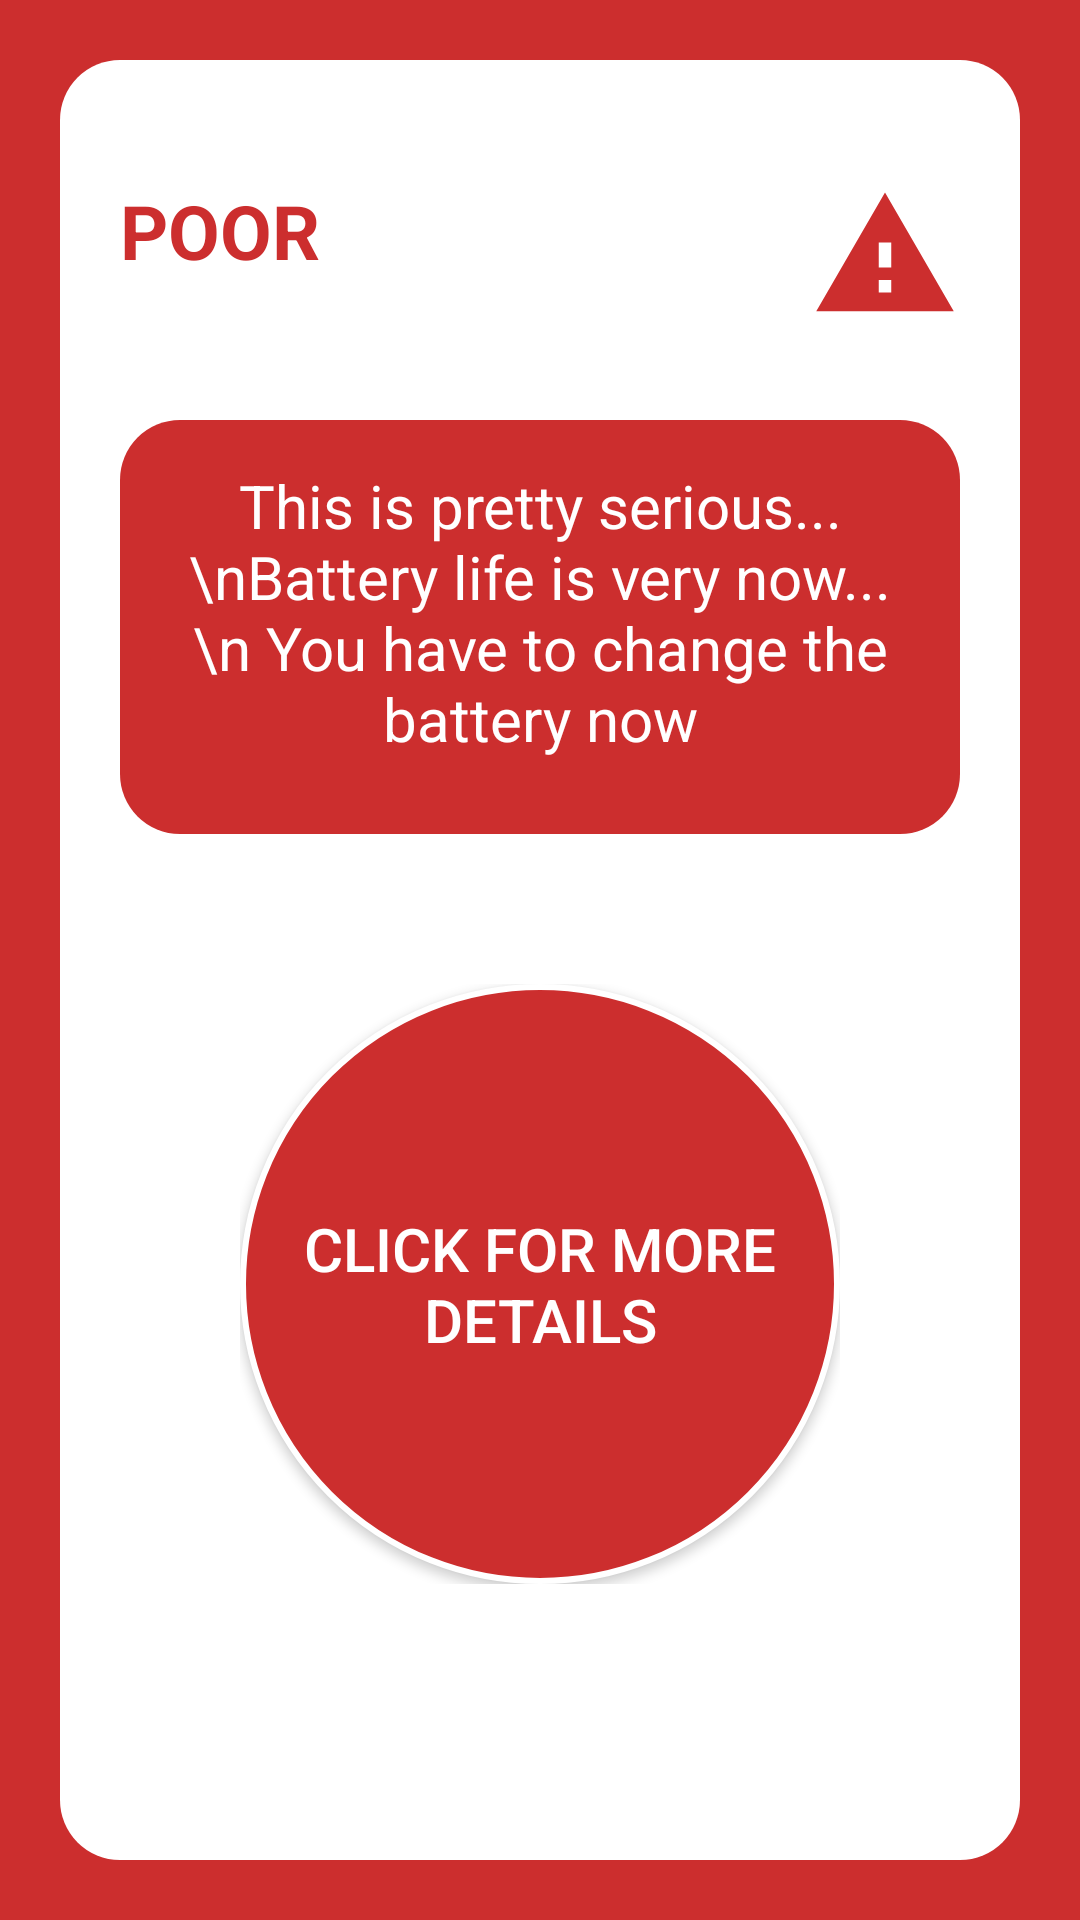

Icons on this 1080w x 1920h Android screen, each with its box as [x1,y1,x2,y2]:
warning: [816,193,954,312]
